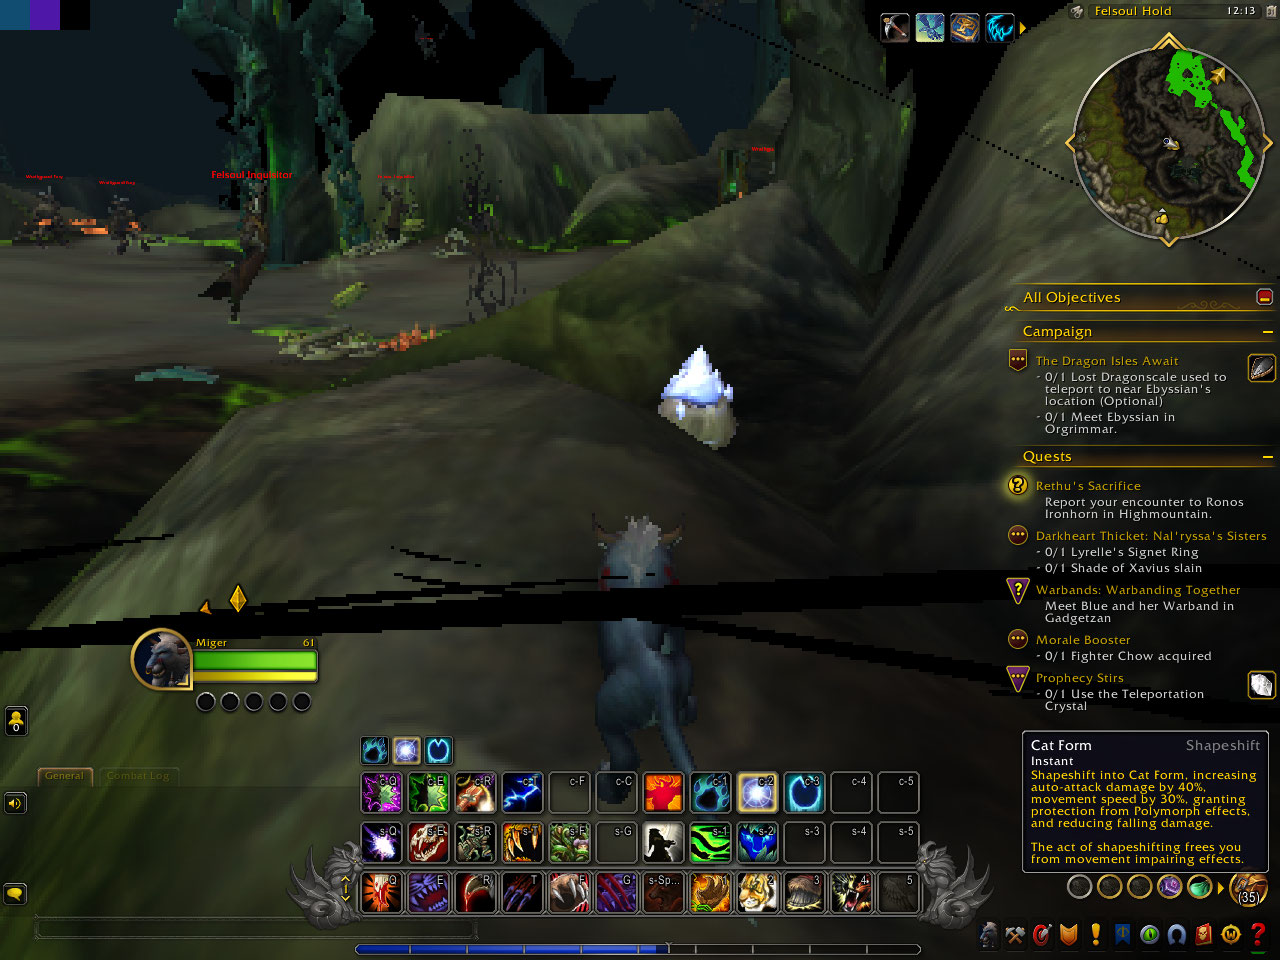ore: (644, 346, 740, 454)
